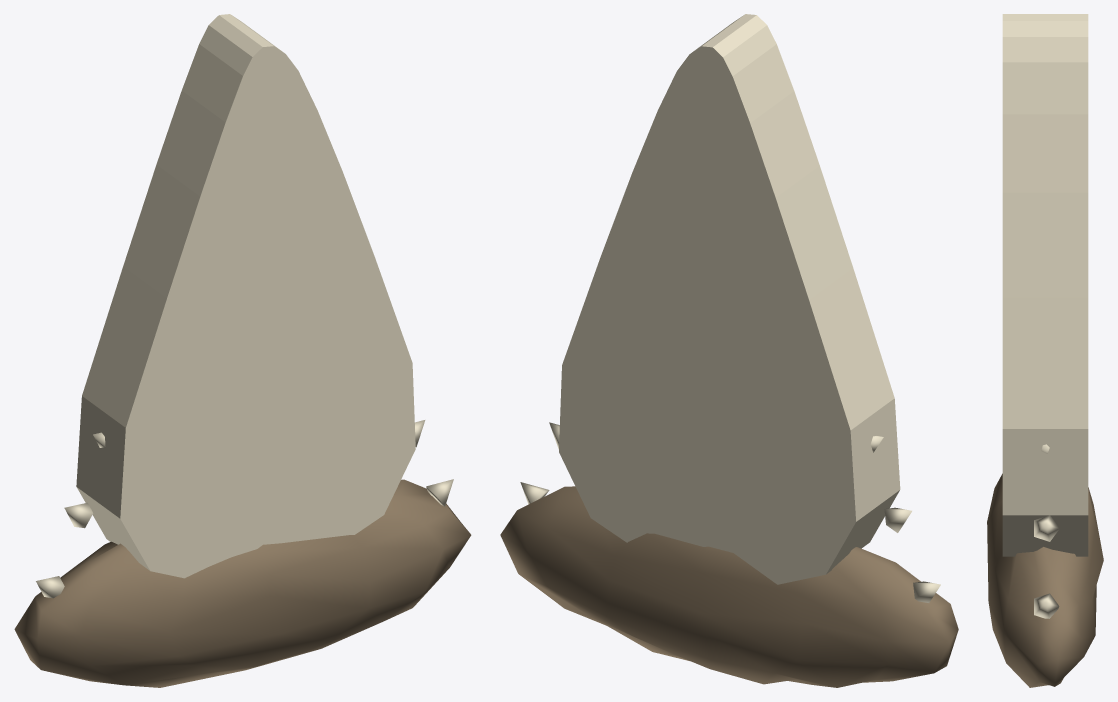
Rendered from fossil-shark-tooth.glb.
3 renders of one model, left to right at view 1: azimuth 30°, elevation 25°; view 2: azimuth 150°, elevation 25°; view 3: azimuth 270°, elevation 25°, orthographic. The views are drawn at different scales.
Visible parts, largest first — view 1: fossil; view 2: fossil; view 3: fossil.
Boxes of the visible parts, box(x1,y1,x2,y2) form: fossil: box(14, 14, 471, 687); fossil: box(500, 14, 958, 687); fossil: box(987, 14, 1103, 687).
Size of the model in its own units: 0.2116 by 0.2889 by 0.0491.
